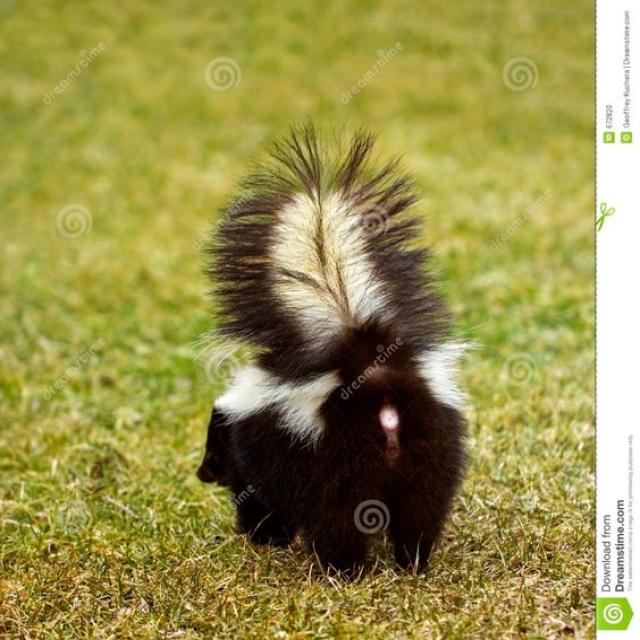Skunk: (167, 119, 496, 595)
